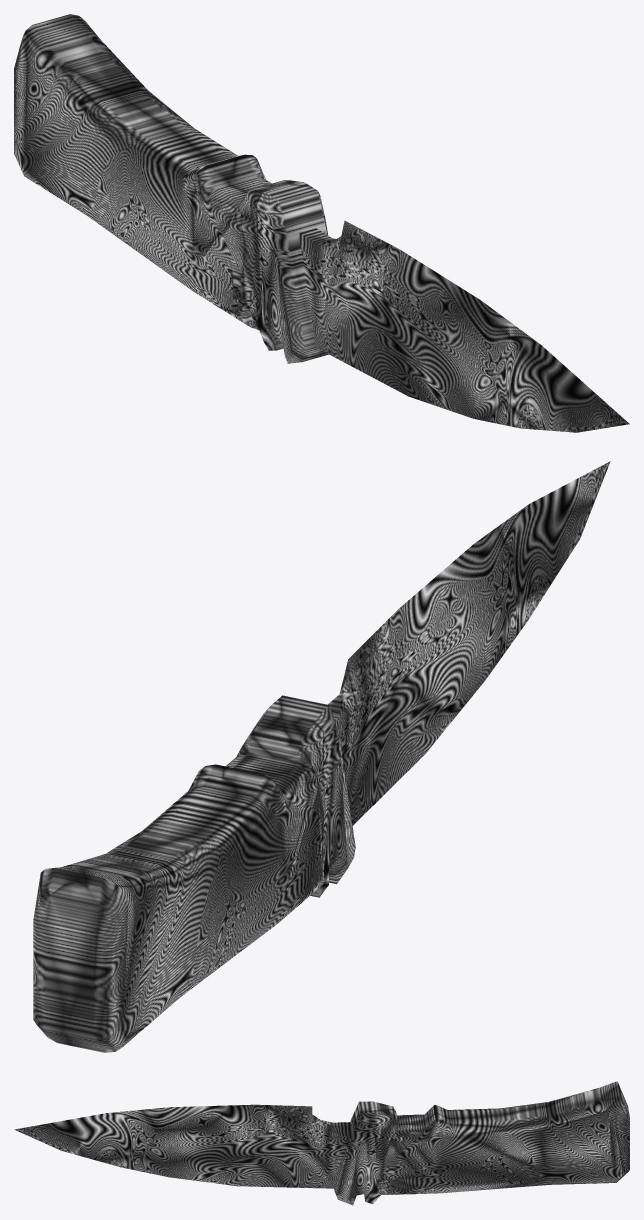
File: model_align.obj
3 renders of one model, top to bottom at view 1: azimuth 30°, elevation 25°; view 2: azimuth 150°, elevation 25°; view 3: azimuth 270°, elevation 25°, orthographic. The views are drawn at different scales.
Size of the model in its own units: 0.0245 by 0.041 by 0.2186.
